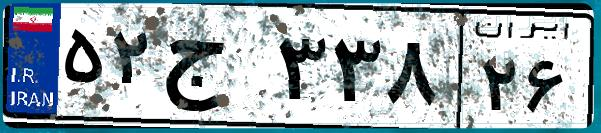2: (475, 38, 525, 113), (110, 28, 158, 98)
3: (270, 28, 330, 110), (330, 28, 385, 110)
5: (57, 26, 110, 100)
6: (525, 38, 570, 115)
8: (385, 28, 445, 110)
ج: (158, 20, 270, 120)
